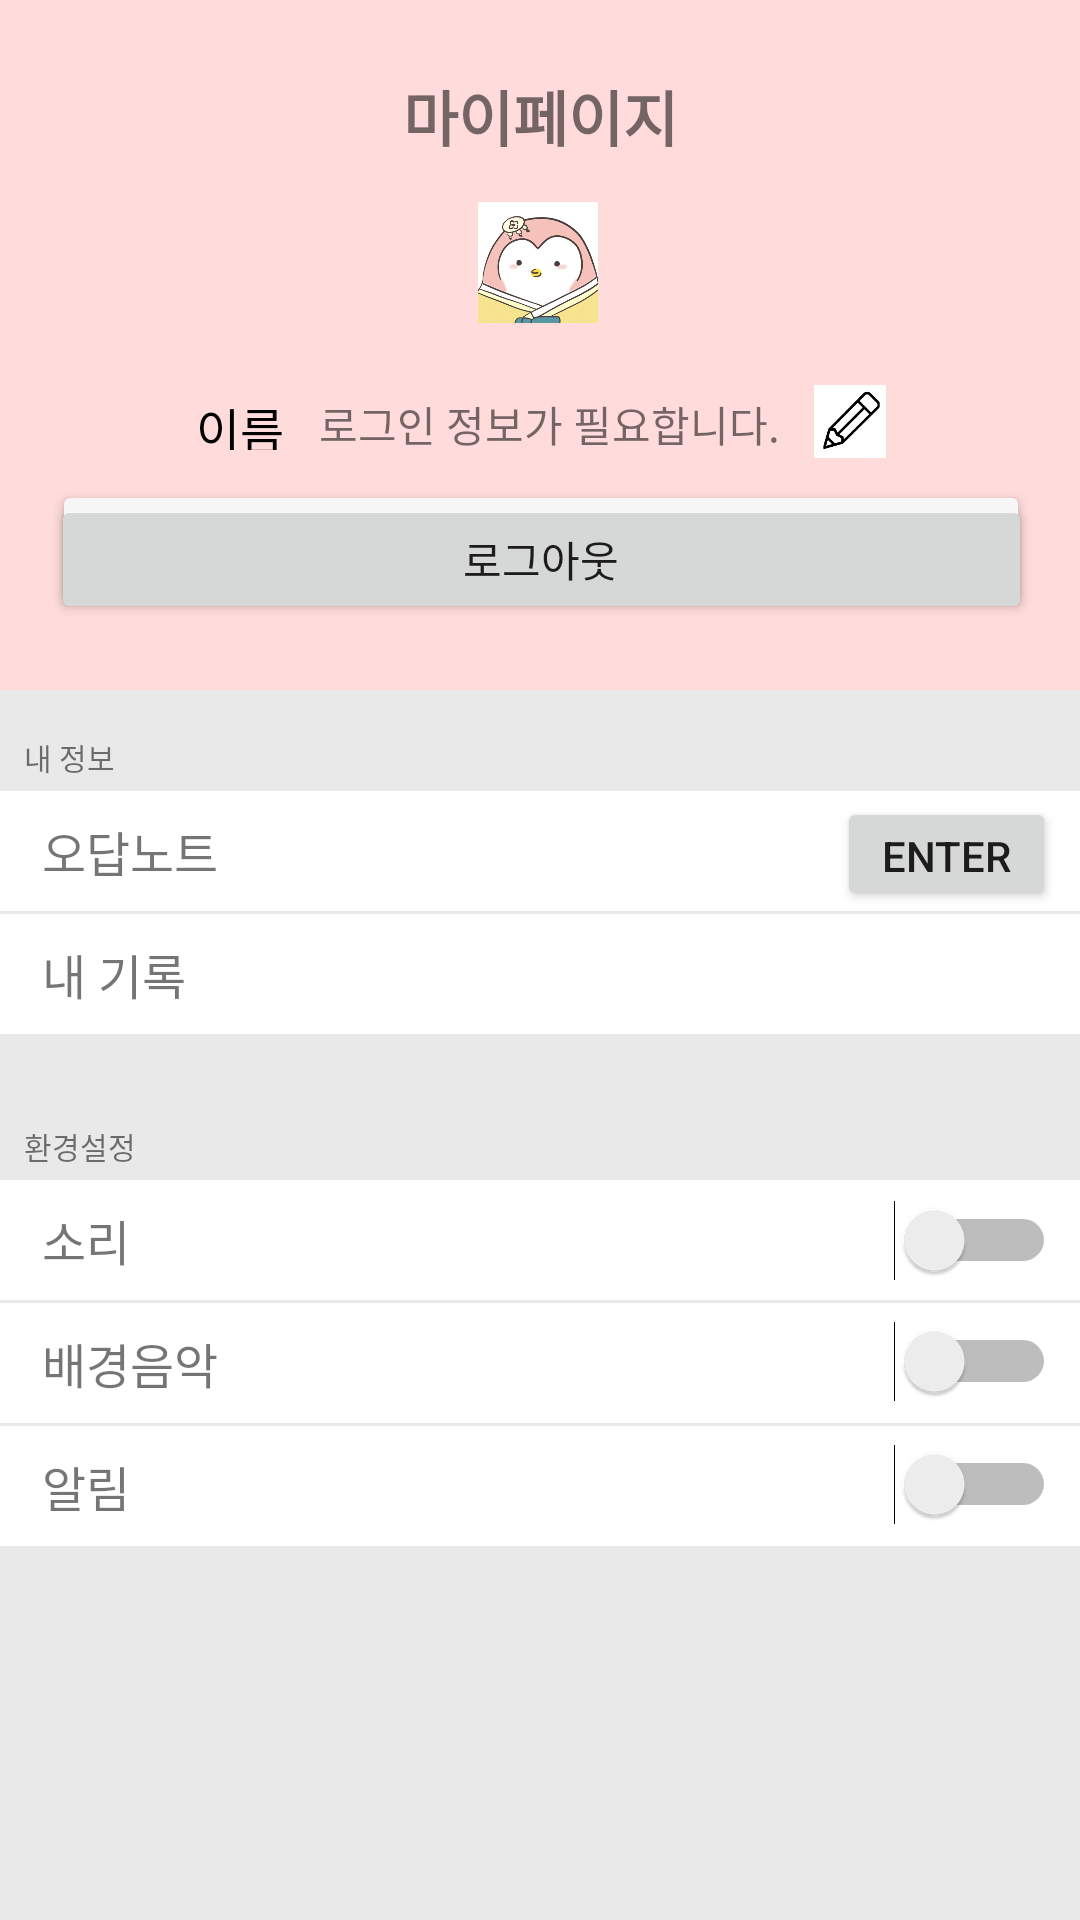

Named icons in this screenshot (1080px×1920px) and their centers, point (x, y):
pen: point (850, 421)
peng half: point (538, 262)
